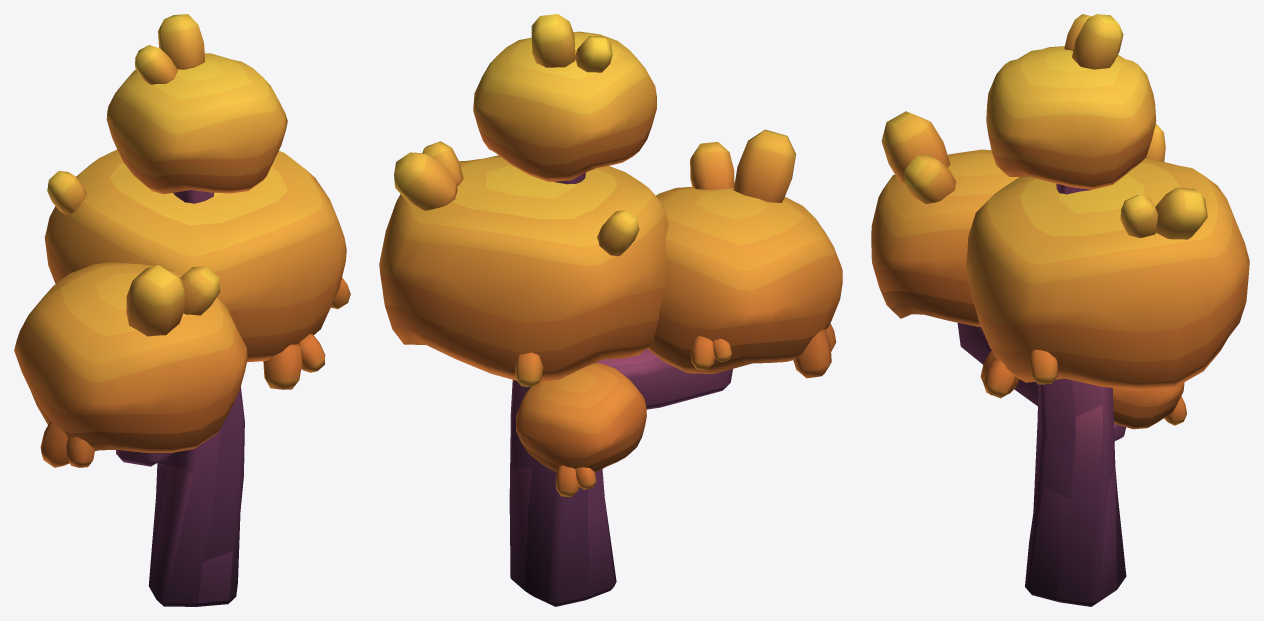
Rendered from grassland_tree_col2_5.fbx.
3 views of the same model, side by side, from view 1: azimuth 30°, elevation 25°; view 2: azimuth 150°, elevation 25°; view 3: azimuth 270°, elevation 25° (orthographic). The views are drawn at different scales.
Visible parts, largest first — view 1: grassland_tree_col2_5; view 2: grassland_tree_col2_5; view 3: grassland_tree_col2_5.
Part boxes in pixels (box(x1,y1,x2,y2)): grassland_tree_col2_5: box(14, 14, 350, 606); grassland_tree_col2_5: box(379, 14, 842, 606); grassland_tree_col2_5: box(871, 14, 1249, 606).
Size of the model in its own units: 663 by 1031 by 618.
Materials: 1 (1 with a texture image).
